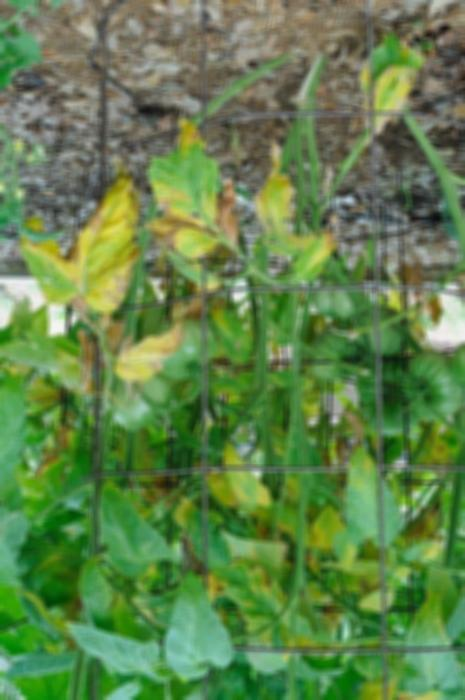Tomato Early blight leaf: (251, 148, 350, 279), (149, 117, 239, 258), (72, 181, 140, 316), (118, 308, 190, 386), (223, 444, 273, 508), (309, 505, 345, 556)
Tomato leaf: (166, 565, 232, 678), (98, 486, 167, 581), (69, 629, 159, 675)
